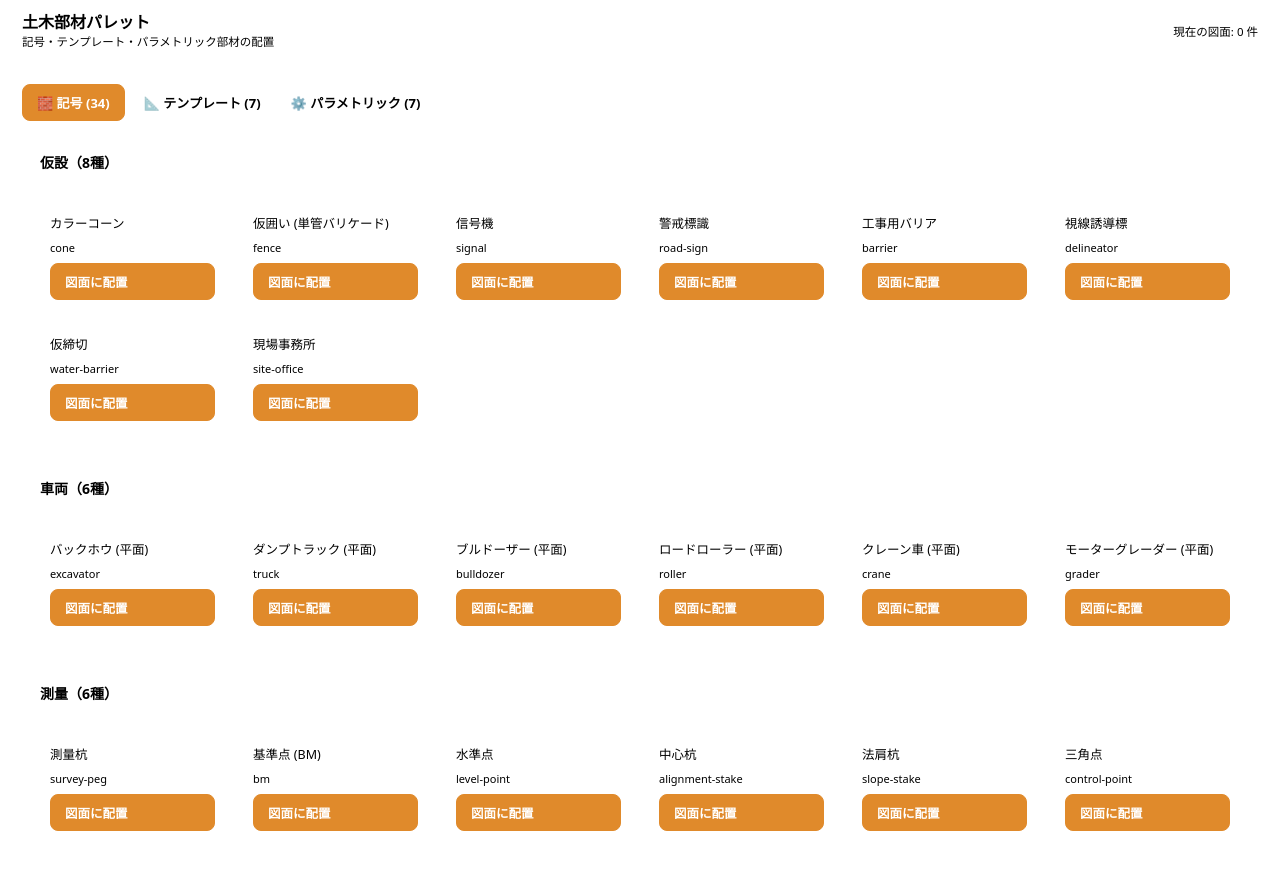
it: PartsPalettePage › 記号を配置すると geometries が1件増え undoStack が積まれる
The width and height of the screenshot is (1280, 890).
Click the button "図面に配置" below "cone".
click(132, 282)  # box [50, 263, 215, 300]
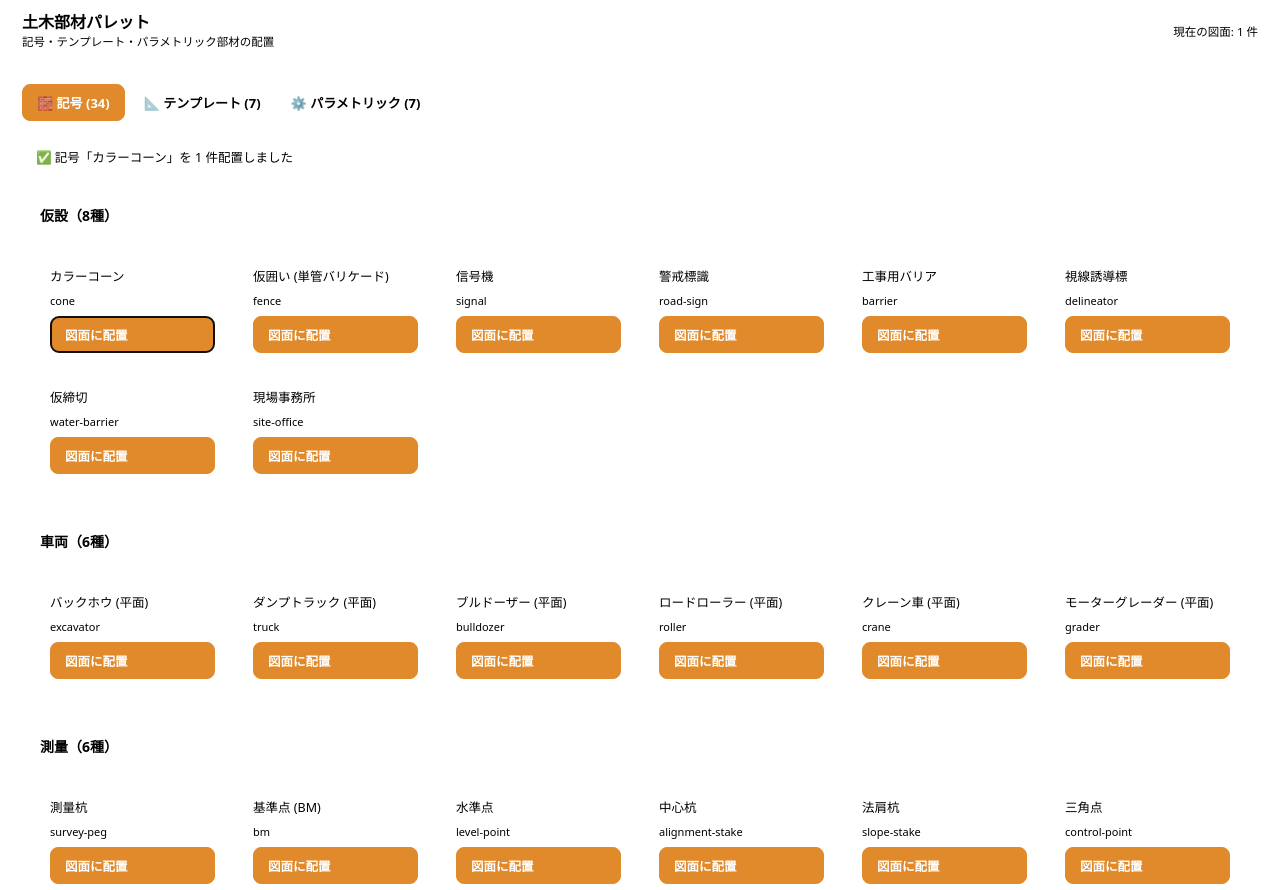
Expected: the message shows "1 件配置しました", [55, 149, 293, 166]
